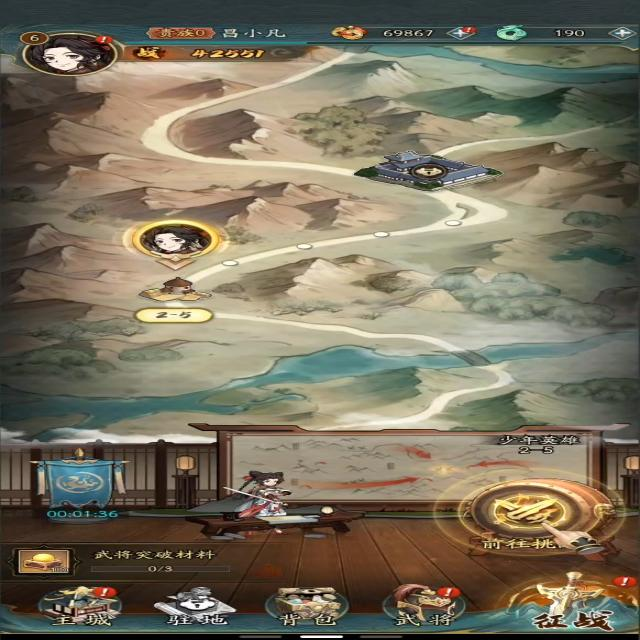hint-guide: (434, 467, 626, 556)
hint-reddot: (608, 574, 640, 588), (90, 585, 118, 600), (436, 586, 466, 599), (92, 32, 114, 45), (459, 24, 484, 35)
navigation-bag: (259, 581, 353, 630)
navigation-fight: (488, 570, 636, 633)
navigation-hero: (384, 579, 467, 629)
navigation-main: (31, 581, 138, 629)
navigation-role: (14, 24, 130, 81)
navigation-station-off: (147, 582, 248, 630)
operation-challenge: (474, 479, 582, 551)
